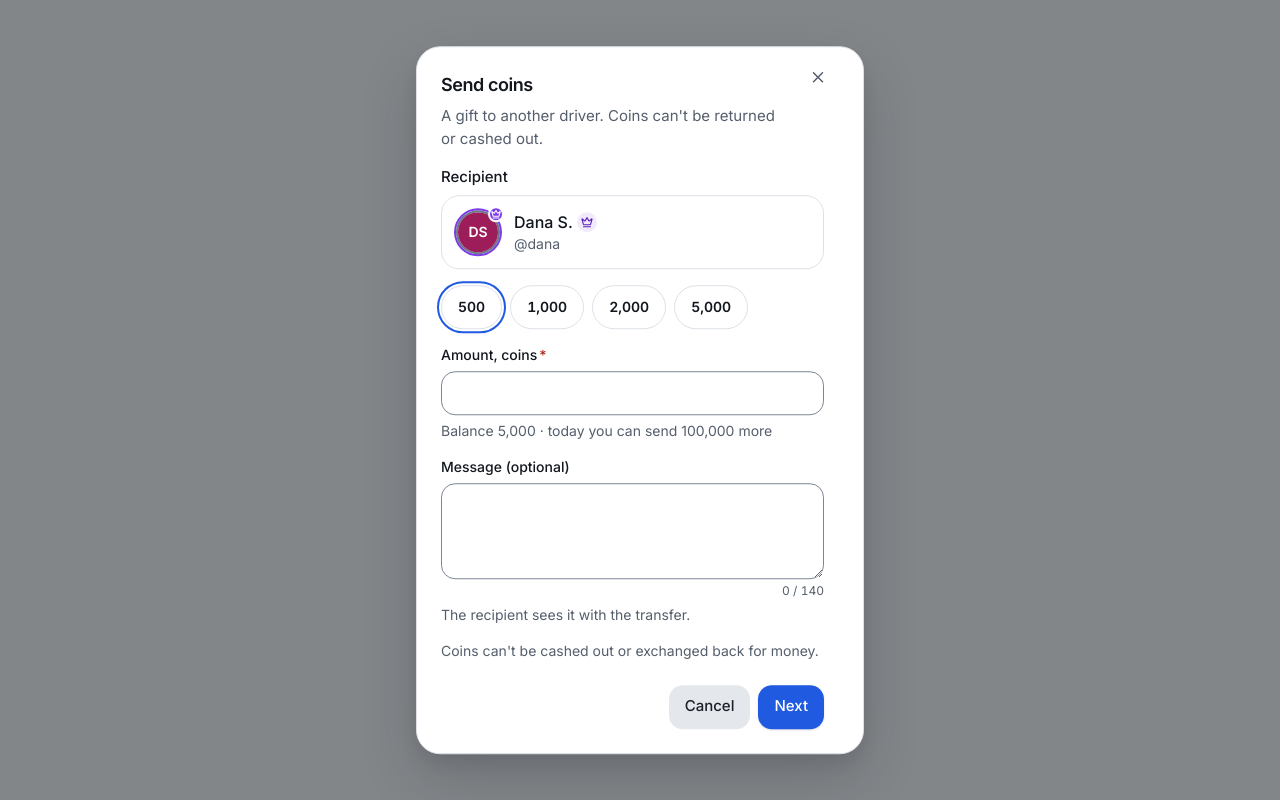
TransferDialog › maps server errors to friendly text
Step 1. Type "1000" into the field with test id "transfer-amount" → (632, 393), box [441,371,824,415]
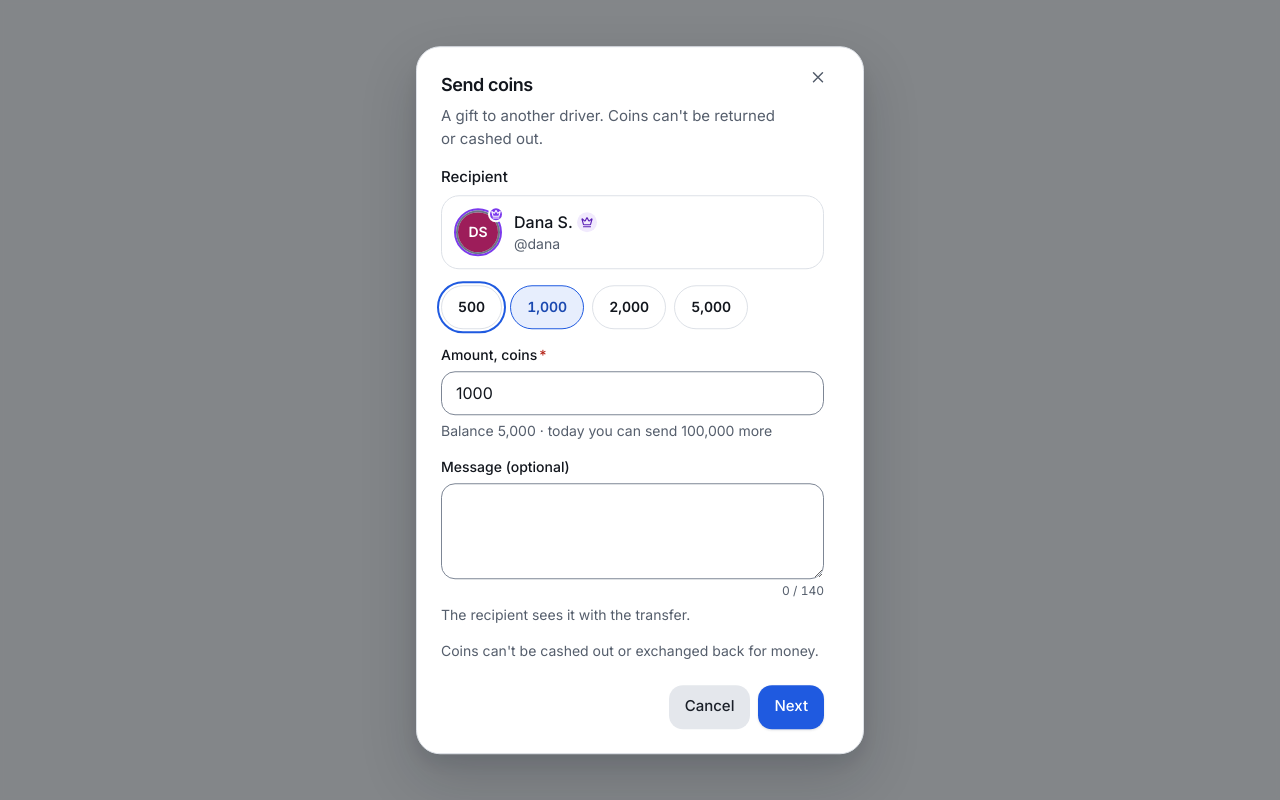
Step 2. Click the button "Next" → click(791, 707), box [758,685,824,729]
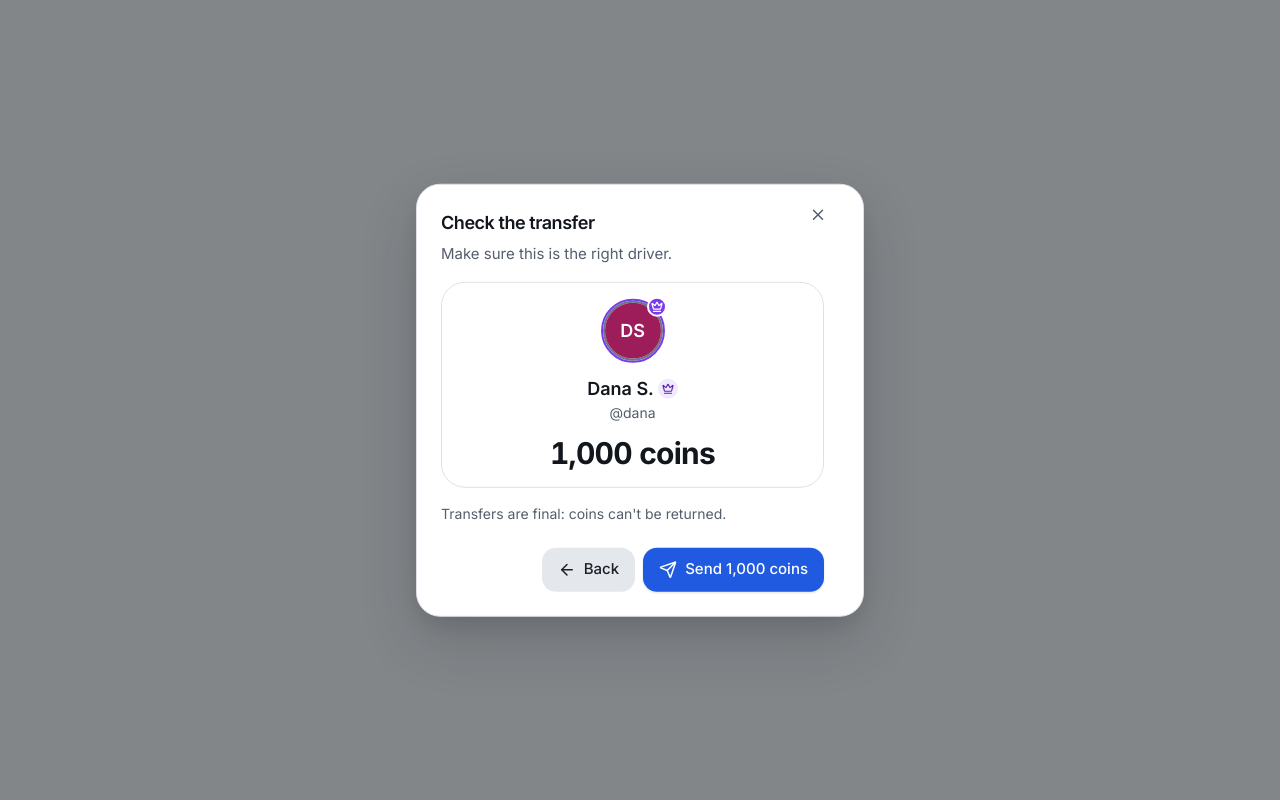
Step 3. Click the button with test id "transfer-send" → click(734, 569), box [643,547,824,591]
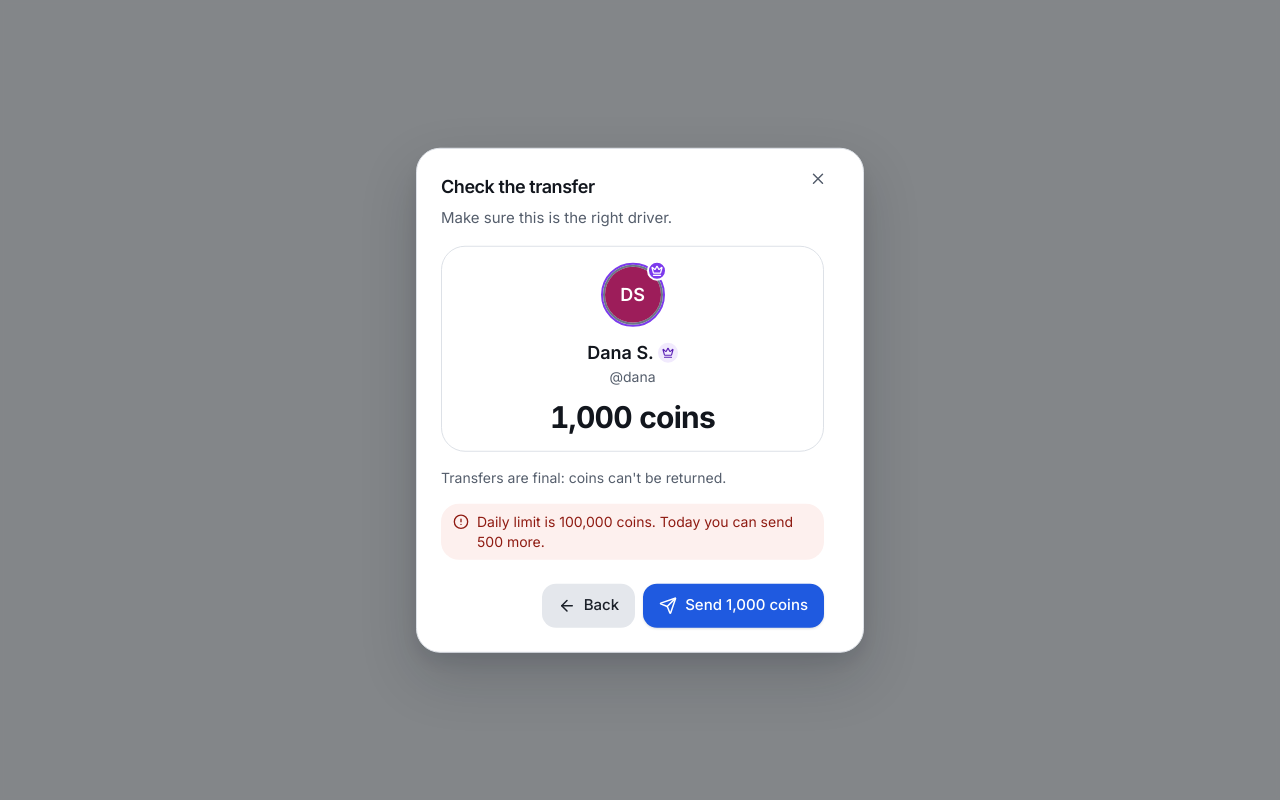
Now the message with test id "transfer-error" reads "Daily limit is 100,000 coins. Today you can send 500 more.", box [477,512,793,549]
